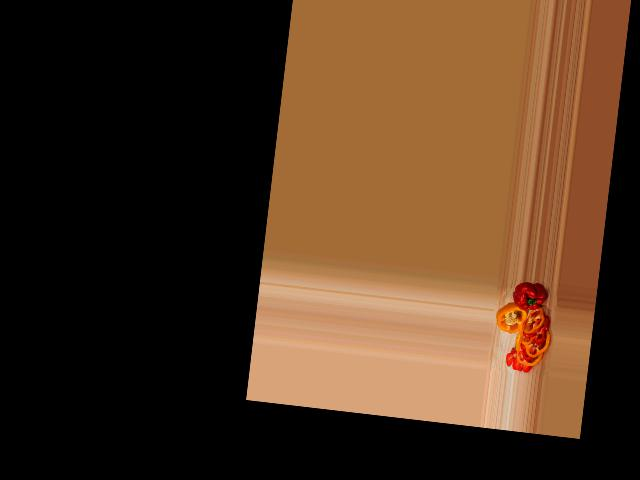bell_pepper: (493, 302, 528, 336)
